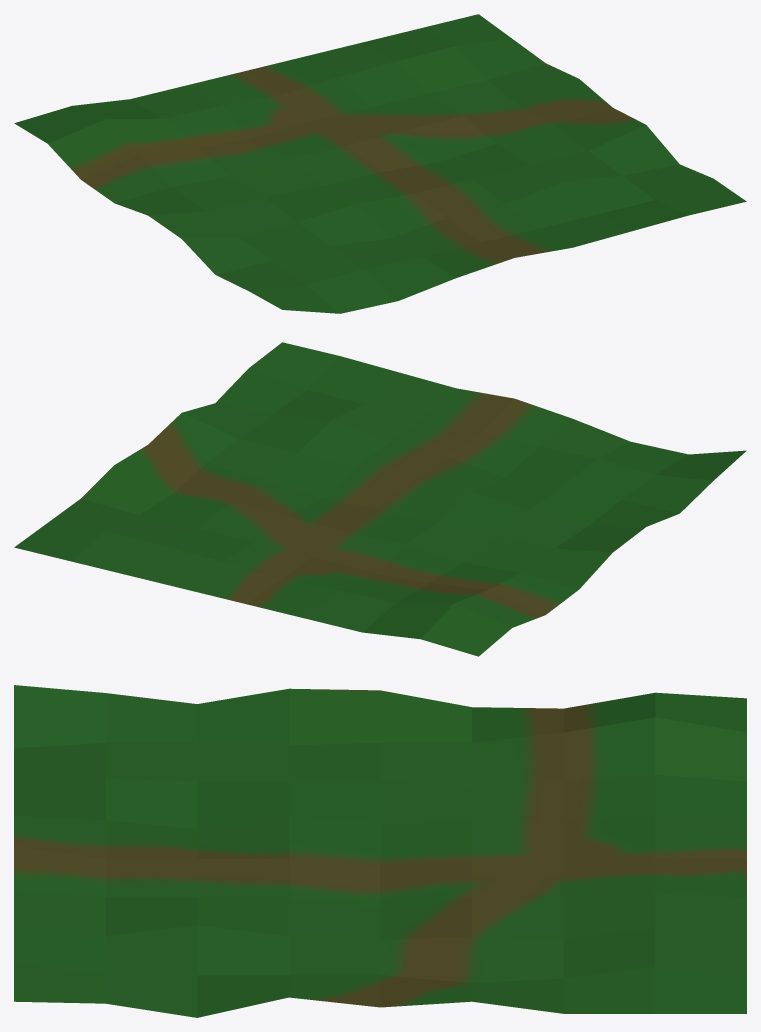
Rendered from Grass.fbx.
The picture shows the model from 3 angles, top to bottom: view 1: azimuth 30°, elevation 25°; view 2: azimuth 150°, elevation 25°; view 3: azimuth 270°, elevation 25°; orthographic projection. The views are drawn at different scales.
Visible parts, largest first — view 1: Plane; view 2: Plane; view 3: Plane.
Boxes of the visible parts, <box> form: Plane: <box>14,14,746,313</box>; Plane: <box>14,342,746,656</box>; Plane: <box>14,685,746,1017</box>.
Bounding box in the file's own units: 75000 × 3943 × 75000.
Materials: 1 (1 with a texture image).
